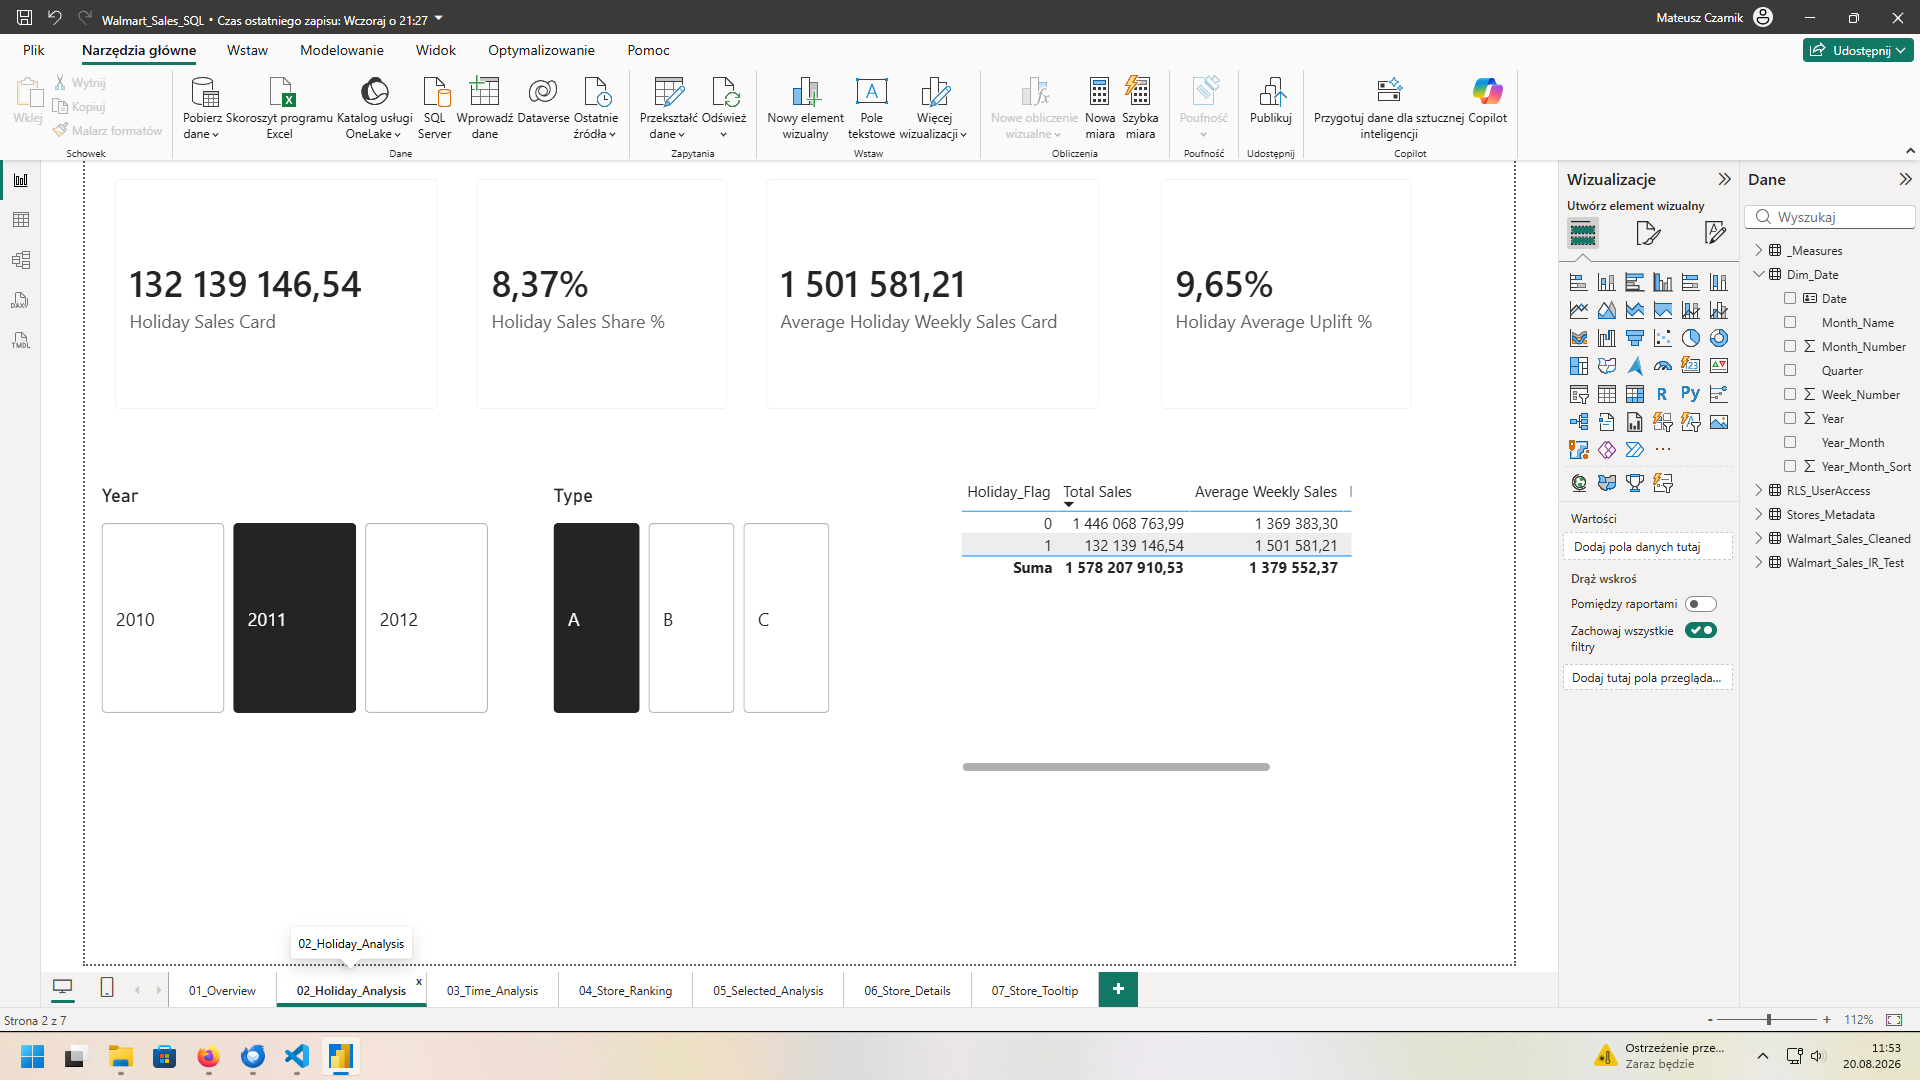

Layout of this report page (visuals, bound fields, positions):
{"tool":"powerbi","page":{"name":"02_Holiday_Analysis","canvas":[1280,720],"ordinal":1},"visuals":[{"type":"cardVisual","fields":{"Data":["_Measures.Holiday Sales Share %"]},"box":[333.9,0,258.8,240.2],"z":0},{"type":"cardVisual","fields":{"Data":["_Measures.Average Holiday Weekly Sales Card"]},"box":[592.8,0,332.2,240],"z":1000},{"type":"cardVisual","fields":{"Data":["_Measures.Holiday Average Uplift %"]},"box":[946.6,0,258.8,240.2],"z":2000},{"type":"advancedSlicerVisual","fields":{"Values":["Stores_Metadata.Type"]},"box":[414.6,290.1,259,210],"z":4000},{"type":"tableEx","fields":{"Values":["Walmart_Sales_Cleaned.Holiday_Flag","_Measures.Total Sales","_Measures.Average Weekly Sales","_Measures.Records Count"]},"box":[779.1,282.1,359.9,270.8],"z":5000},{"type":"cardVisual","fields":{"Data":["_Measures.Holiday Sales Card"]},"box":[10.2,0,323.7,240.2],"z":6000},{"type":"advancedSlicerVisual","fields":{"Values":["Dim_Date.Year"]},"box":[9.9,290.1,356.4,210.4],"z":6001}]}

Visuals, with their boxes on the page's 1280x720 design canvas (x1, y1, x2, y2). These are canvas units, not pixel positions in the 1920x1080 screenshot, which may show the page scaled, cropped or inside an application window:
cardVisual - _Measures.Holiday Sales Share %: <bbox>334, 0, 593, 240</bbox>
cardVisual - _Measures.Average Holiday Weekly Sales Card: <bbox>593, 0, 925, 240</bbox>
cardVisual - _Measures.Holiday Average Uplift %: <bbox>947, 0, 1205, 240</bbox>
advancedSlicerVisual - Stores_Metadata.Type: <bbox>415, 290, 674, 500</bbox>
tableEx - Walmart_Sales_Cleaned.Holiday_Flag x _Measures.Total Sales: <bbox>779, 282, 1139, 553</bbox>
cardVisual - _Measures.Holiday Sales Card: <bbox>10, 0, 334, 240</bbox>
advancedSlicerVisual - Dim_Date.Year: <bbox>10, 290, 366, 500</bbox>
